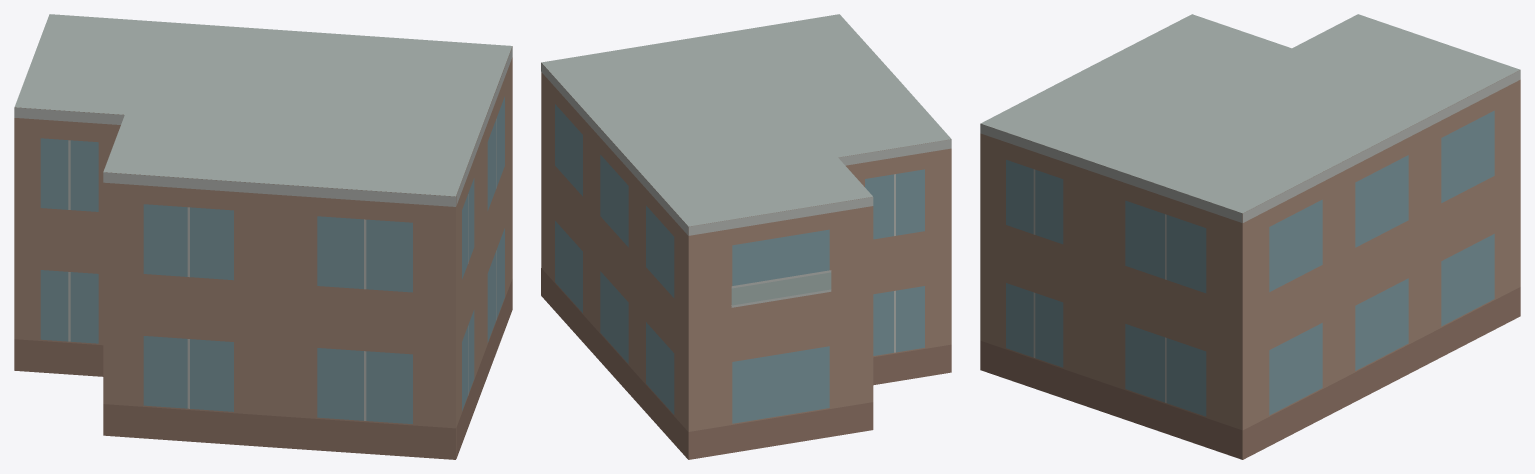
The model's file is survey-upis-32761274.glb.
3 views of the same model, side by side, from view 1: azimuth 30°, elevation 25°; view 2: azimuth 150°, elevation 25°; view 3: azimuth 270°, elevation 25° (orthographic). The views are drawn at different scales.
Parts seen in each view (by area): view 1: survey-upis-32761274.tmp; view 2: survey-upis-32761274.tmp; view 3: survey-upis-32761274.tmp.
Boxes of the visible parts, x1=… form: survey-upis-32761274.tmp: x1=14, y1=14, x2=512, y2=459; survey-upis-32761274.tmp: x1=541, y1=14, x2=951, y2=459; survey-upis-32761274.tmp: x1=980, y1=14, x2=1520, y2=459.
Size of the model in its own units: 10.59 by 6.1 by 12.12.
